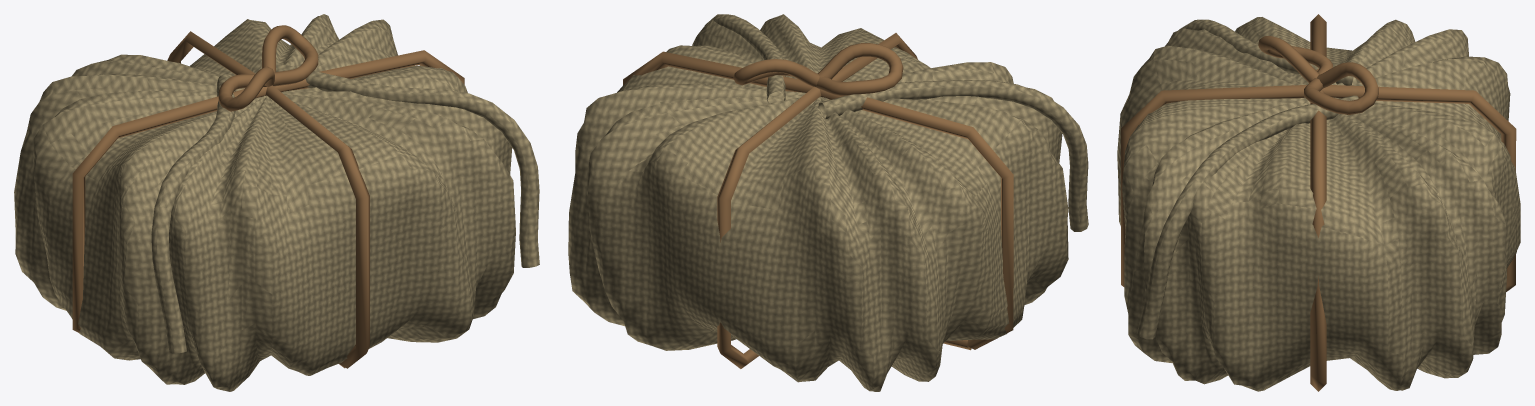
Rendered from healer_parcel.glb.
3 renders of one model, left to right at view 1: azimuth 30°, elevation 25°; view 2: azimuth 150°, elevation 25°; view 3: azimuth 270°, elevation 25°, orthographic.
Parts seen in each view (by area): view 1: healer_parcel; view 2: healer_parcel; view 3: healer_parcel.
Part boxes in pixels (x1,y1,x2,y2): healer_parcel: (14, 14, 539, 391); healer_parcel: (568, 14, 1088, 391); healer_parcel: (1117, 14, 1520, 391).
Size of the model in its own units: 0.1389 by 0.0882 by 0.1198.
2 materials, 1 textured.
